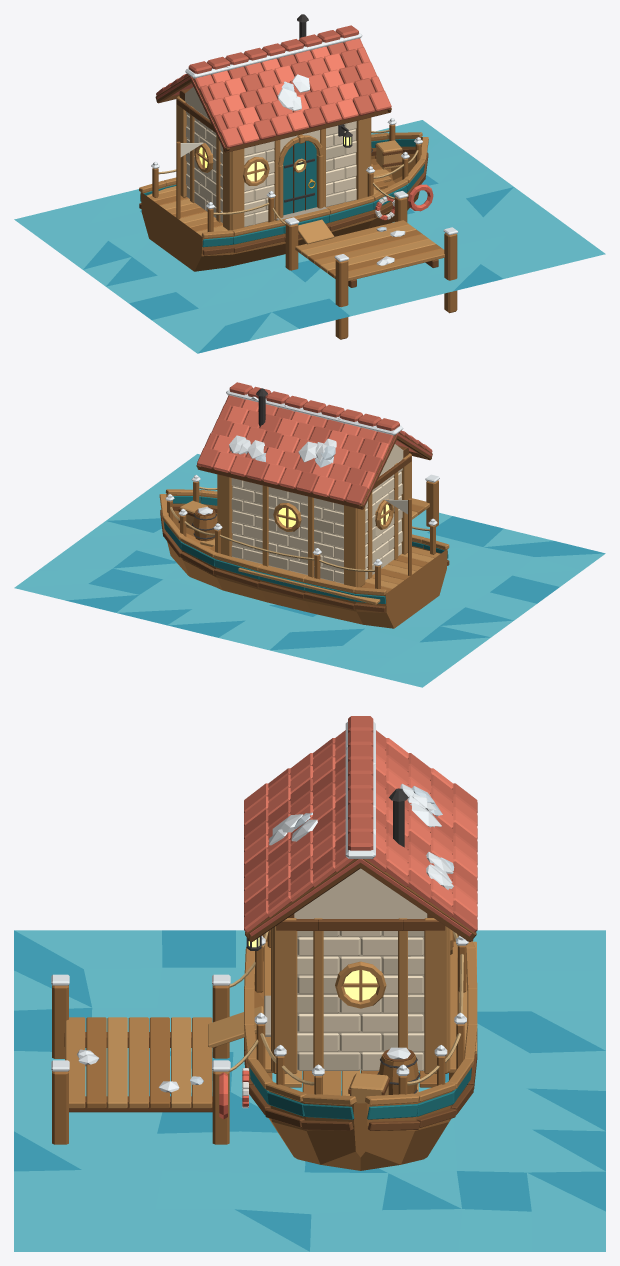
Rendered from houseboat_exterior.glb.
3 views of the same model, one above another, from view 1: azimuth 30°, elevation 25°; view 2: azimuth 150°, elevation 25°; view 3: azimuth 270°, elevation 25° (orthographic). The views are drawn at different scales.
Visible parts, largest first — view 1: houseboat_exterior, houseboat_exterior_roof, part_door_leaf; view 2: houseboat_exterior, houseboat_exterior_roof; view 3: houseboat_exterior, houseboat_exterior_roof.
Boxes of the visible parts, x1,y1,x2,y2 form: houseboat_exterior: (14, 96, 605, 353); houseboat_exterior_roof: (155, 14, 391, 152); part_door_leaf: (283, 141, 316, 215); houseboat_exterior: (14, 453, 605, 687); houseboat_exterior_roof: (196, 382, 432, 509); houseboat_exterior: (14, 918, 605, 1251); houseboat_exterior_roof: (244, 716, 477, 941).
Size of the model in its own units: 9 by 4.84 by 7.
